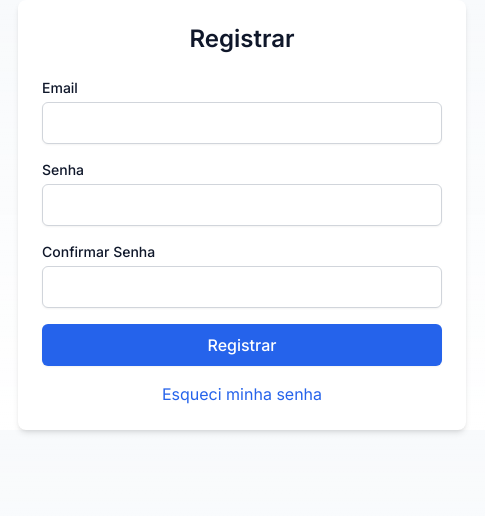
AuthForm › Register Mode › should handle password mismatch
In the field labelled "Email": (242, 123) [42,102,442,144], type "test@example.com"
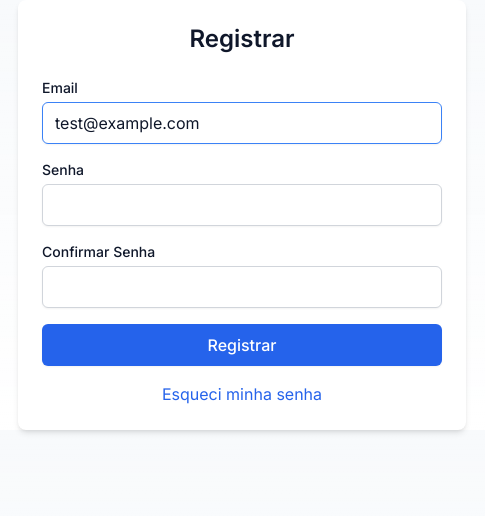
In the password field labelled "Senha": (242, 205) [42,184,442,226], type "password123"
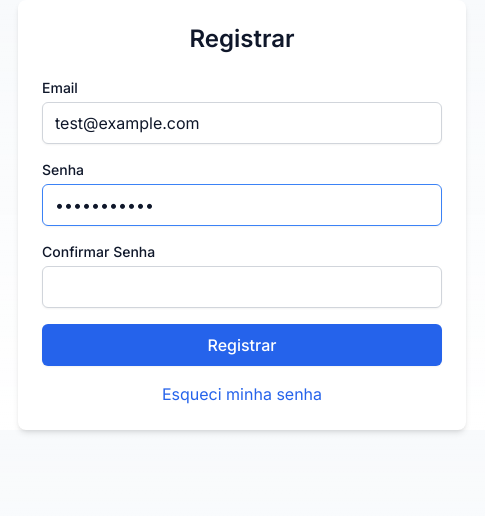
In the password field labelled "Confirmar Senha": (242, 287) [42,266,442,308], type "differentpassword"
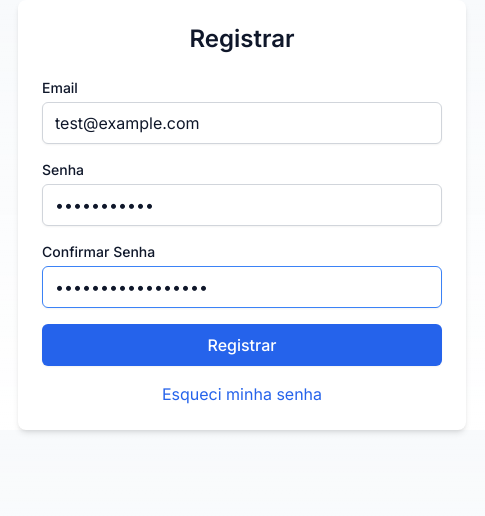
Click the button "Registrar": (242, 345) [42,324,442,366]
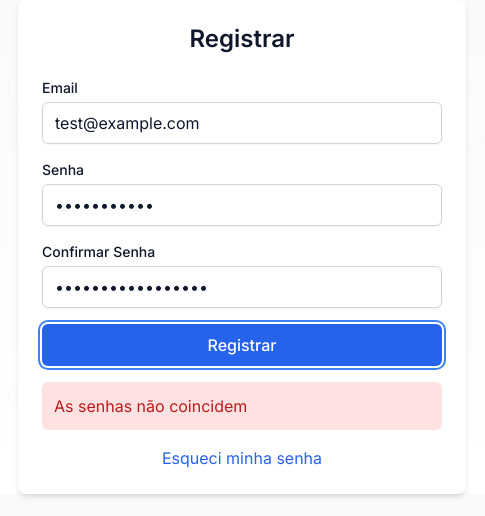
Expected: the text "As senhas não coincidem" is shown, [42,382,442,430]
